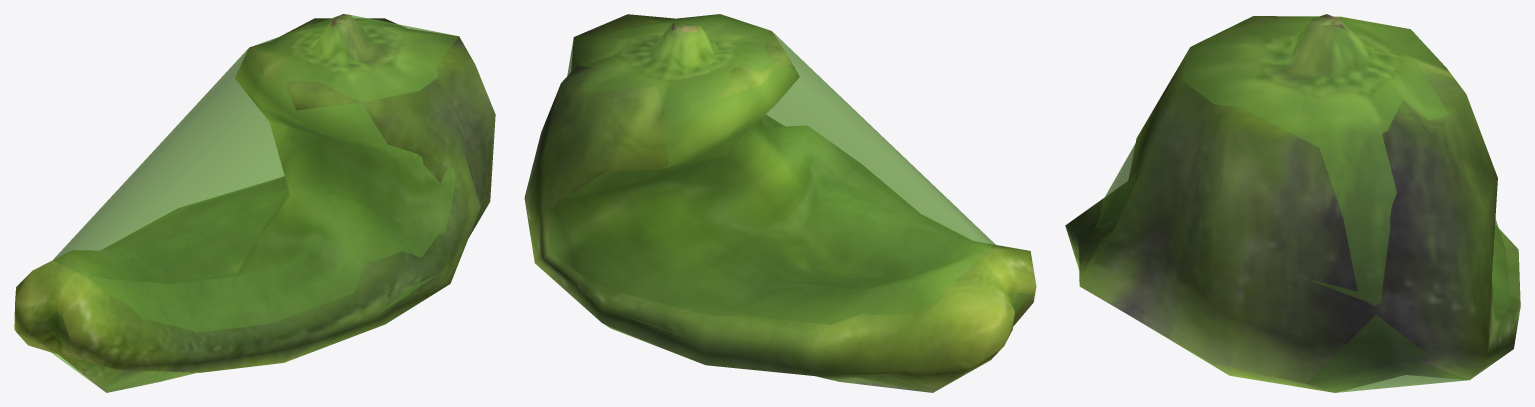
File: pg_Pepper_01_d.fbx
3 renders of one model, left to right at view 1: azimuth 30°, elevation 25°; view 2: azimuth 150°, elevation 25°; view 3: azimuth 270°, elevation 25°, orthographic. The views are drawn at different scales.
Visible parts, largest first — view 1: pg_Pepper_01_d_LOD0, pg_Pepper_01_d_col; view 2: pg_Pepper_01_d_LOD0, pg_Pepper_01_d_col; view 3: pg_Pepper_01_d_LOD0, pg_Pepper_01_d_col.
Boxes of the visible parts, x1,y1,x2,y2 form: pg_Pepper_01_d_LOD0: (14, 14, 495, 392); pg_Pepper_01_d_col: (44, 15, 458, 392); pg_Pepper_01_d_LOD0: (524, 14, 1036, 392); pg_Pepper_01_d_col: (549, 14, 1034, 392); pg_Pepper_01_d_LOD0: (1065, 14, 1520, 392); pg_Pepper_01_d_col: (1074, 16, 1510, 392).
Size of what is drawn, in the model's own units: 14.61 by 9.62 by 9.94.
Materials: 2 (1 with a texture image).
